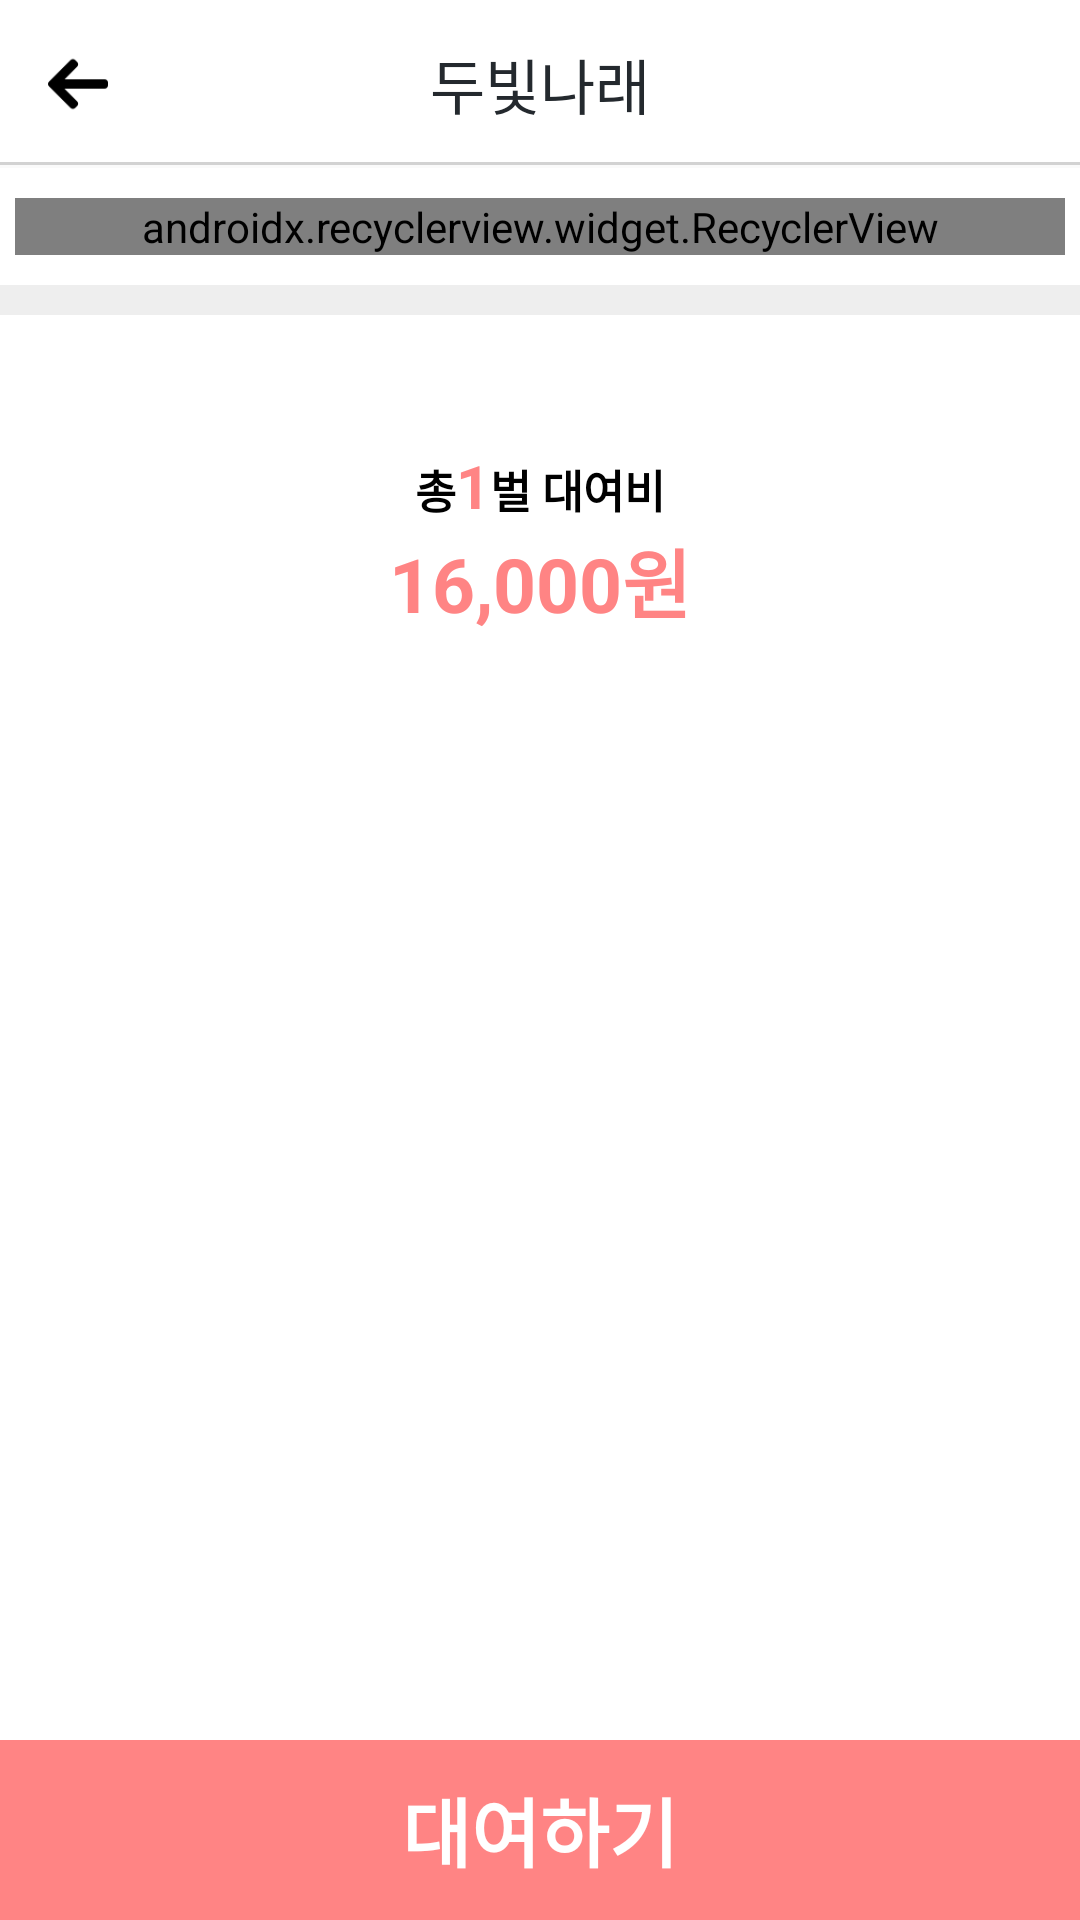

Icon click points for this 1080px×1920px phone screenshot, format (x=x, y=y):
left arrow: (x=78, y=84)
